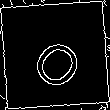O_NE: (22, 22, 88, 88)
